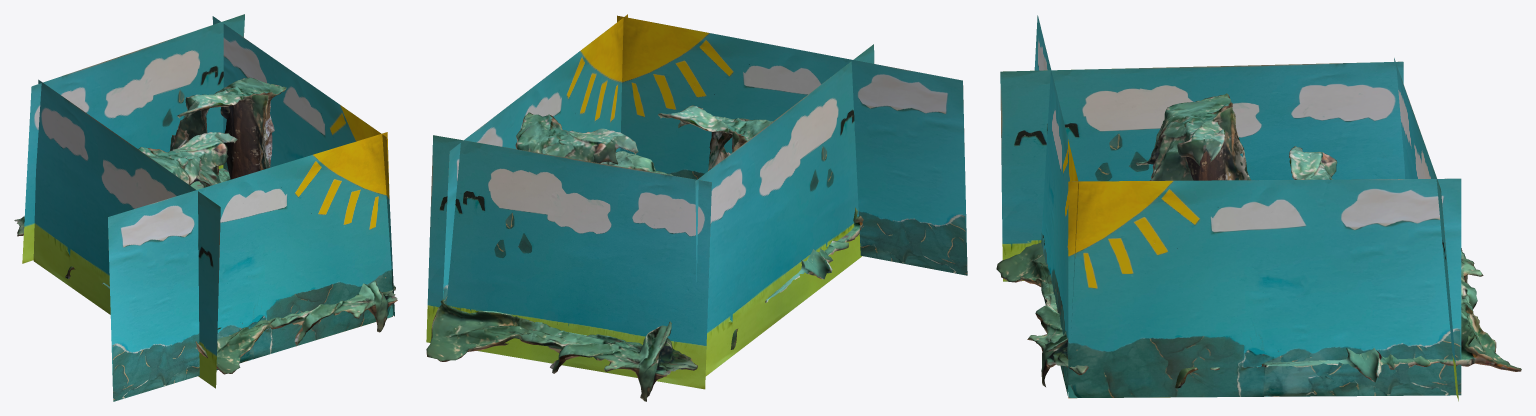
Rendered from ChipsstandImDschungel.fbx.
3 renders of one model, left to right at view 1: azimuth 30°, elevation 25°; view 2: azimuth 150°, elevation 25°; view 3: azimuth 270°, elevation 25°, orthographic. The views are drawn at different scales.
Visible parts, largest first — view 1: himmelSonne, himmelVogel, himmelVogel.001, himmelSonne.001, Urwald_00, Urwald_01; view 2: himmelVogel.001, himmelSonne, himmelVogel, Urwald_01, himmelSonne.001, Urwald_00; view 3: himmelSonne.001, himmelVogel, Urwald_00, himmelSonne, Urwald_01, himmelVogel.001.
Boxes of the visible parts, box(x1,y1,x2,y2) form: himmelSonne: box(108, 132, 392, 401); himmelVogel: box(33, 79, 220, 388); himmelVogel.001: box(22, 14, 244, 263); himmelSonne.001: box(212, 16, 394, 316); Urwald_00: box(102, 132, 397, 374); Urwald_01: box(14, 77, 286, 278); himmelVogel.001: box(426, 135, 711, 389); himmelSonne: box(617, 15, 967, 275); himmelVogel: box(695, 44, 874, 376); Urwald_01: box(426, 112, 737, 401); himmelSonne.001: box(442, 14, 627, 304); Urwald_00: box(601, 105, 863, 302); himmelSonne.001: box(1068, 178, 1461, 398); himmelVogel: box(1000, 61, 1404, 281); Urwald_00: box(996, 93, 1250, 388); himmelSonne: box(1034, 15, 1078, 395); Urwald_01: box(1261, 146, 1521, 382); himmelVogel.001: box(1394, 58, 1458, 401).
Bounding box in the file's own units: 8722 × 5030 × 10958.
